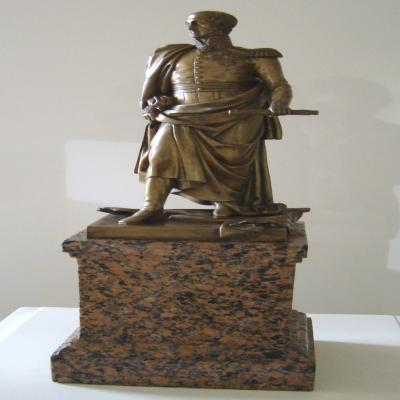sculpture: (51, 11, 317, 393)
